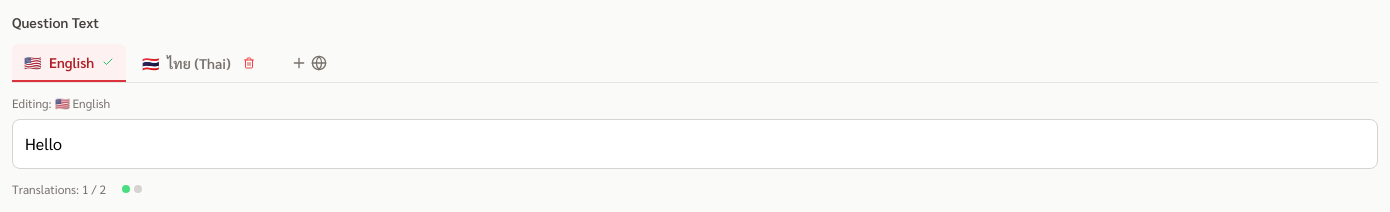
Test: MultiLanguageEditor › Copy from English Feature › should show copy from English button for non-English tabs
This screenshot has width=1390, height=212.
Click the button "🇹🇭 ไทย (Thai)": (201, 63) [130,45,271,81]
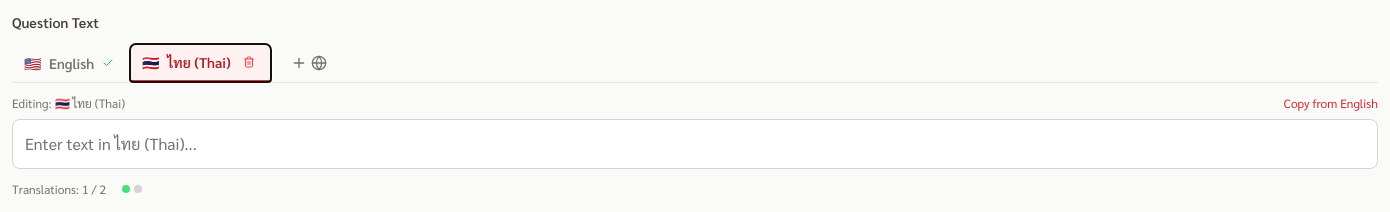
Expected: the button "Copy from English" is shown, [1284,95,1378,111]
